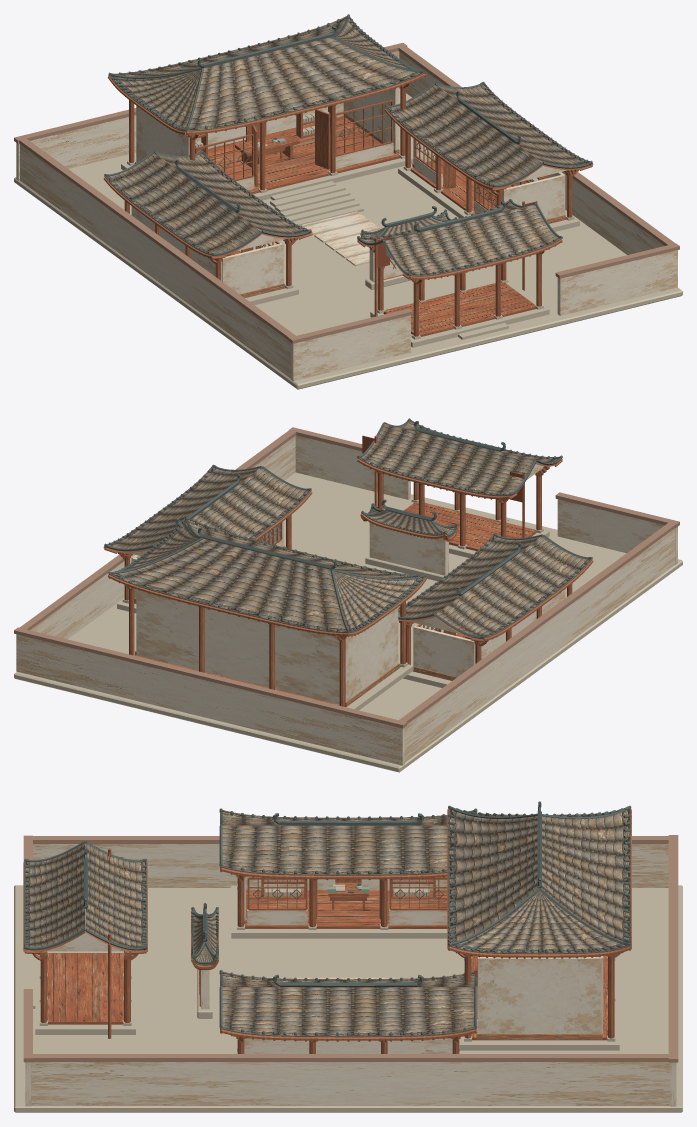
3 renders of one model, top to bottom at view 1: azimuth 30°, elevation 25°; view 2: azimuth 150°, elevation 25°; view 3: azimuth 270°, elevation 25°, orthographic. The views are drawn at different scales.
Visible parts, largest first — view 1: zhoufu__painted_roof, zhoufu__painted_plaster, zhoufu__warm_limestone, zhoufu__painted_cedar, zhoufu__tile_ridges, zhoufu__chibi_ink; view 2: zhoufu__painted_plaster, zhoufu__painted_roof, zhoufu__warm_limestone, zhoufu__painted_cedar, zhoufu__tile_ridges, zhoufu__chibi_ink, zhoufu__painted_brick; view 3: zhoufu__painted_roof, zhoufu__painted_plaster, zhoufu__warm_limestone, zhoufu__painted_cedar, zhoufu__tile_ridges, zhoufu__chibi_ink, zhoufu__painted_brick.
Boxes of the visible parts, x1,y1,x2,y2 form: zhoufu__painted_roof: [14, 17, 679, 343]; zhoufu__painted_plaster: [16, 51, 677, 380]; zhoufu__warm_limestone: [14, 88, 682, 389]; zhoufu__painted_cedar: [103, 37, 593, 336]; zhoufu__tile_ridges: [104, 14, 592, 276]; zhoufu__chibi_ink: [104, 16, 589, 276]; zhoufu__painted_plaster: [16, 435, 677, 765]; zhoufu__painted_roof: [14, 421, 679, 728]; zhoufu__warm_limestone: [14, 472, 682, 772]; zhoufu__painted_cedar: [103, 435, 593, 706]; zhoufu__tile_ridges: [104, 418, 592, 638]; zhoufu__chibi_ink: [107, 420, 592, 637]; zhoufu__painted_brick: [134, 546, 456, 706]; zhoufu__painted_roof: [23, 809, 678, 1062]; zhoufu__painted_plaster: [25, 844, 676, 1106]; zhoufu__warm_limestone: [14, 879, 682, 1112]; zhoufu__painted_cedar: [23, 809, 631, 1053]; zhoufu__tile_ridges: [24, 801, 631, 1035]; zhoufu__chibi_ink: [24, 808, 630, 1037]; zhoufu__painted_brick: [244, 920, 602, 1039].
Size of the model in its own units: 22.16 by 7.5 by 28.
9 materials, 4 textured.
